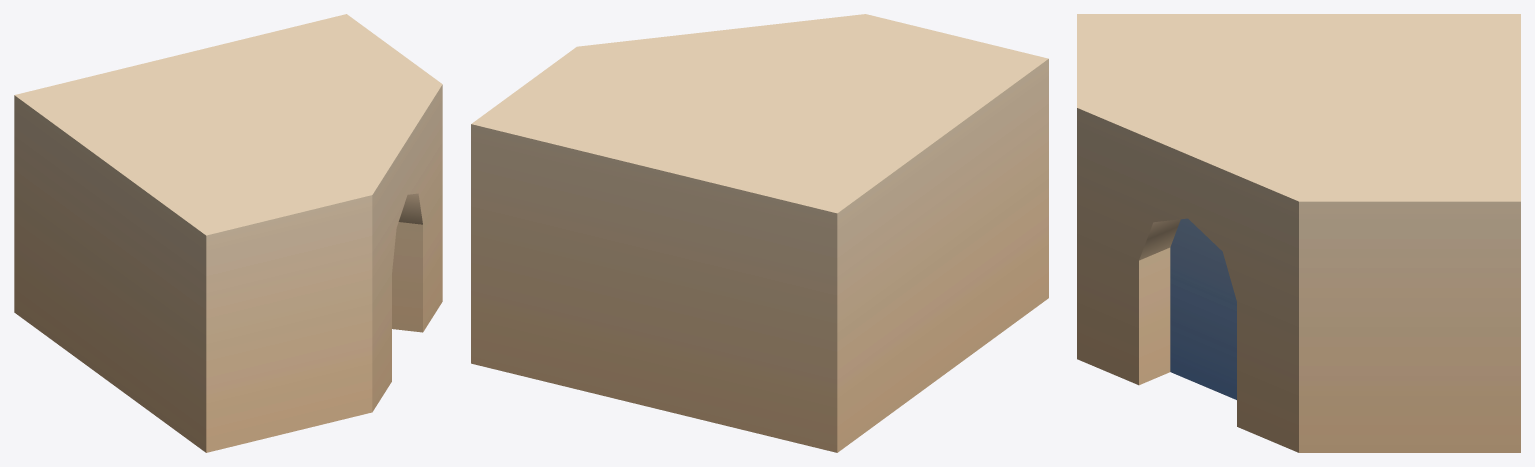
File: kenney-modular-buildings-building-corner-window-top-round.glb
3 renders of one model, left to right at view 1: azimuth 30°, elevation 25°; view 2: azimuth 150°, elevation 25°; view 3: azimuth 270°, elevation 25°, orthographic. The views are drawn at different scales.
Parts seen in each view (by area): view 1: building-corner-window-top-round; view 2: building-corner-window-top-round; view 3: building-corner-window-top-round.
Part boxes in pixels (<box>): building-corner-window-top-round: <box>14,14,442,452</box>; building-corner-window-top-round: <box>471,14,1048,452</box>; building-corner-window-top-round: <box>1077,14,1520,452</box>.
Bounding box in the file's own units: 1 × 0.625 × 1.
1 material, 1 textured.
